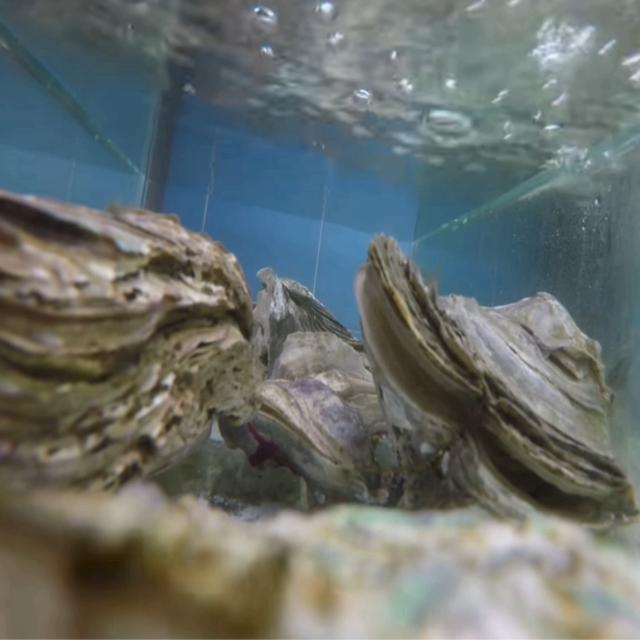Oyster-Closed: (0, 189, 254, 519), (248, 329, 407, 510)
Oyster-Indeterminate: (0, 479, 640, 640)
Oyster-Open: (355, 234, 640, 542)
